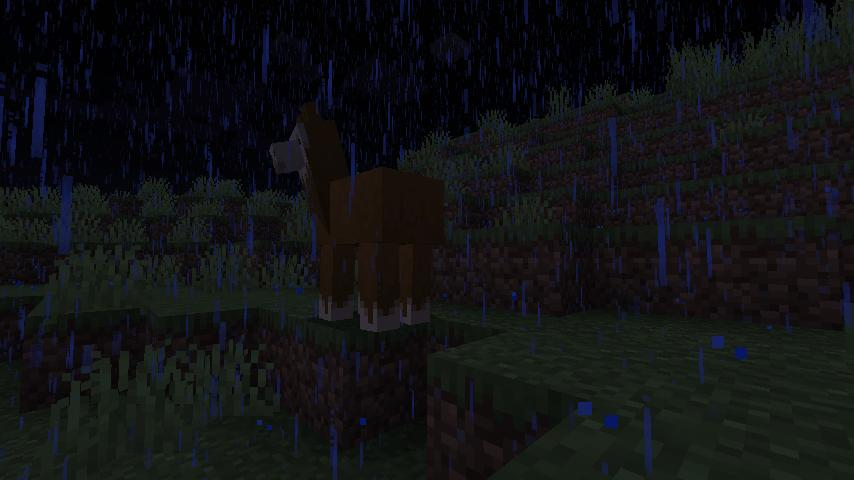llama: (264, 97, 453, 331)
